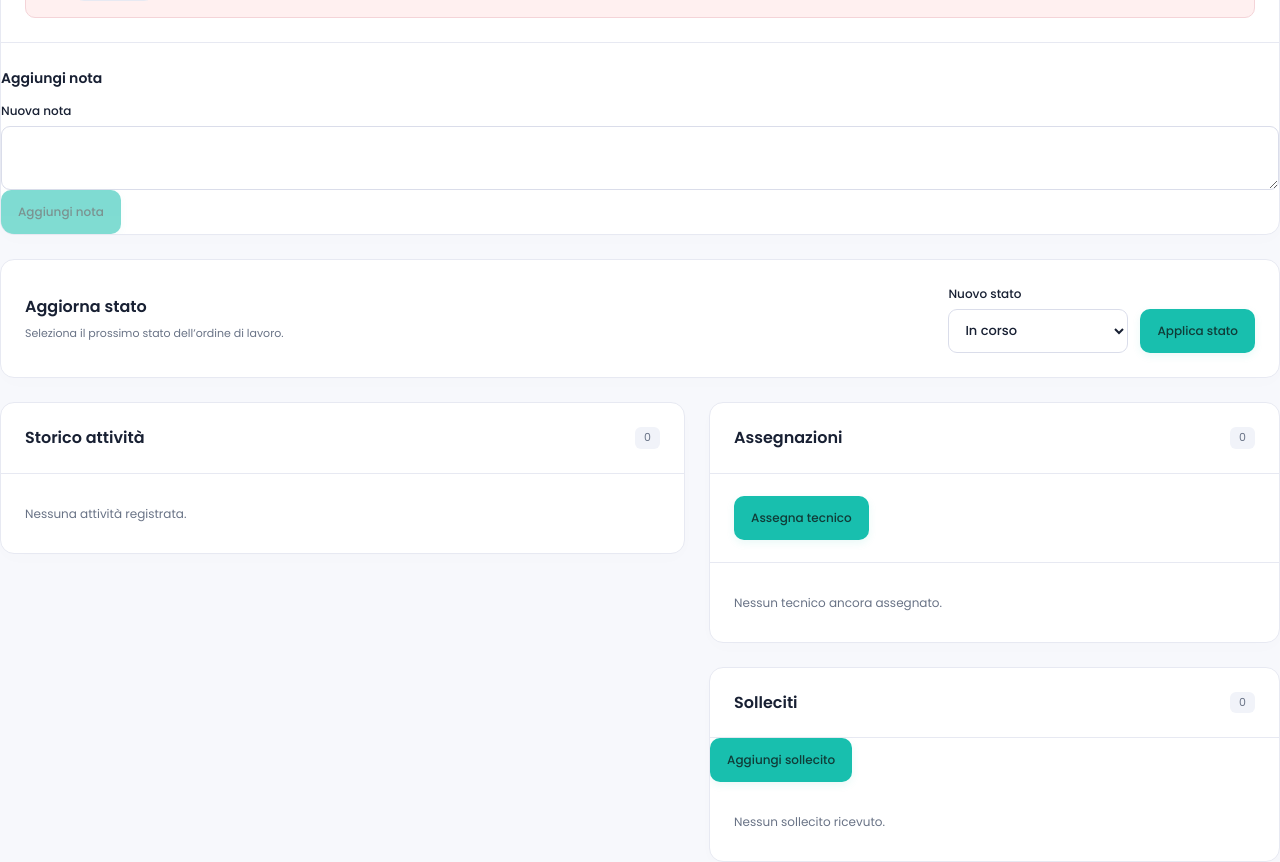
adds a reminder with the configured user and refreshes list, count and history
(page scrolled)
Expected: the text "Nessun sollecito ricevuto." is shown, 734,813 -> 885,830
Click the button "Aggiungi sollecito": (781, 760) 710,738 -> 852,782
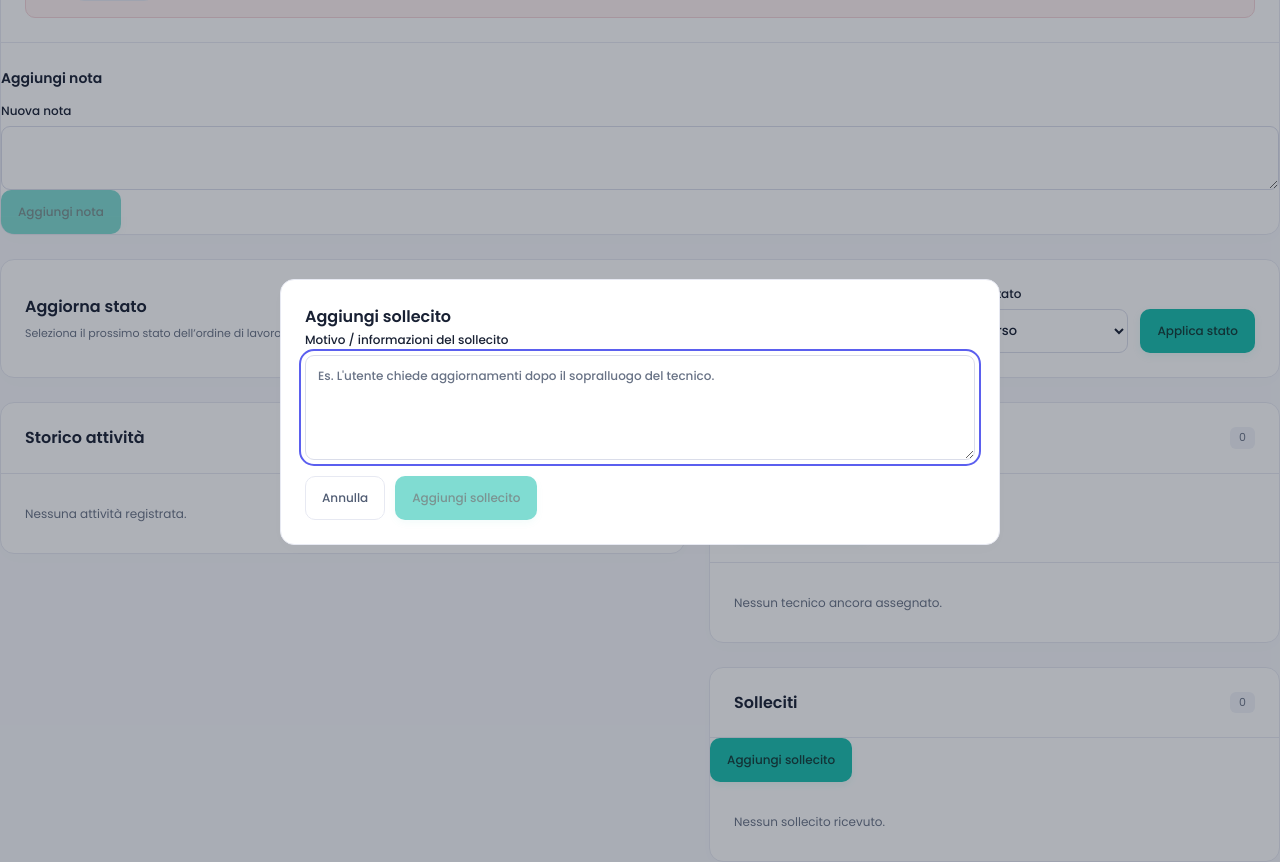
In the text box labelled "Motivo / informazioni del sollecito": (640, 407) 305,355 -> 975,460, type "Richiesta aggiornamenti"
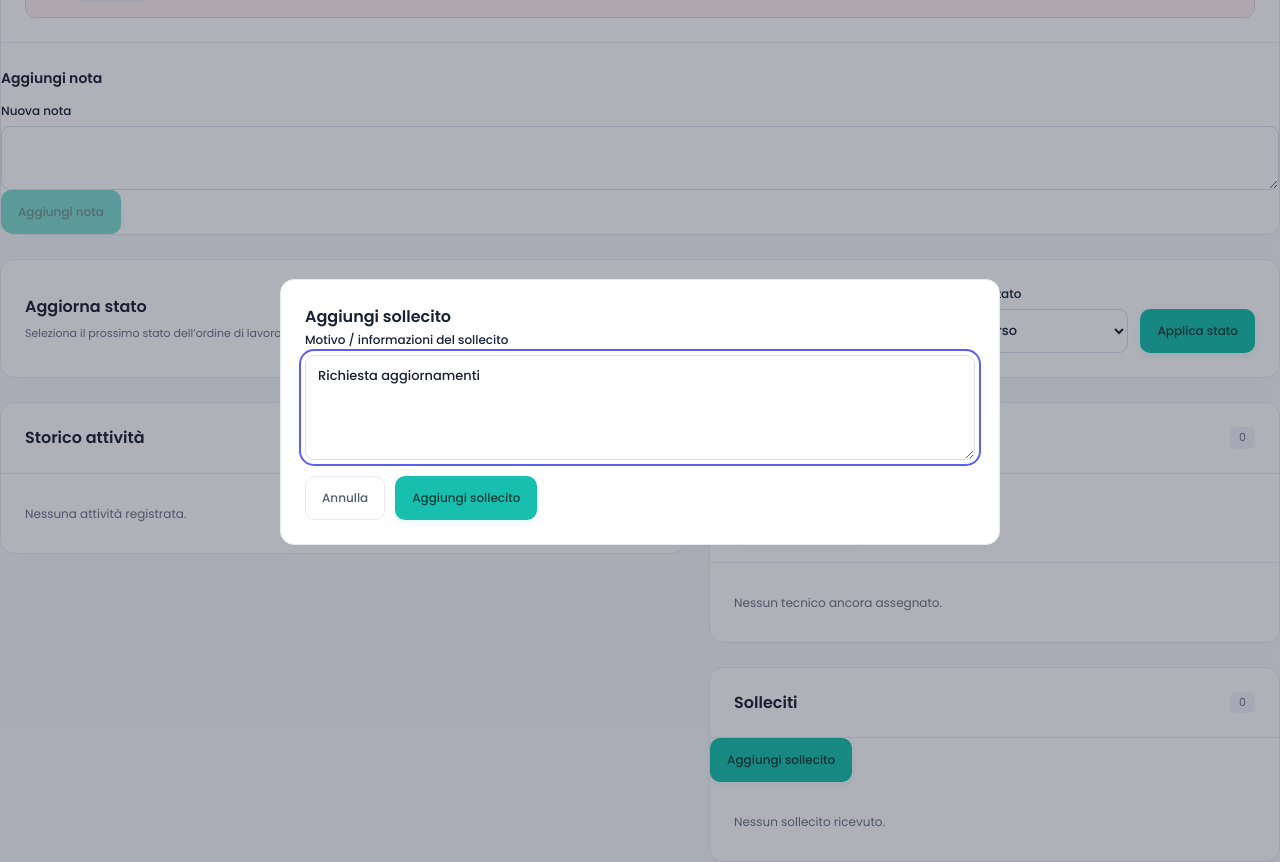
Click the button "Aggiungi sollecito": (466, 498) 395,476 -> 537,520
(page scrolled)
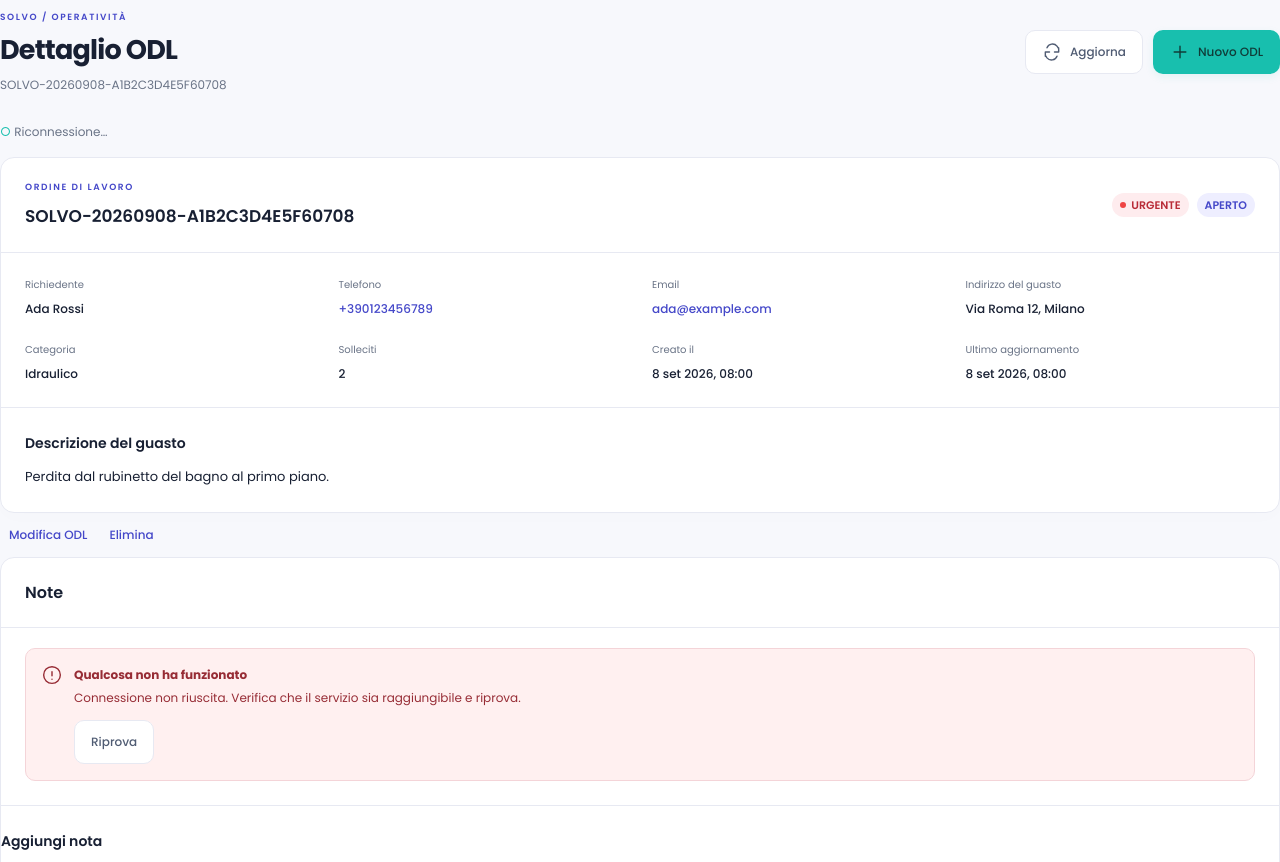
Expected: the text "2" is shown, 338,365 -> 345,382
